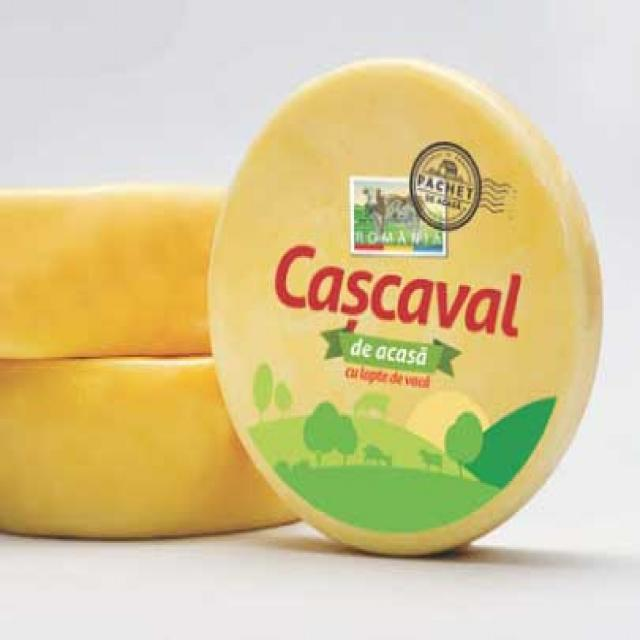cheese: (208, 57, 604, 555), (0, 359, 303, 542), (1, 189, 218, 358)
